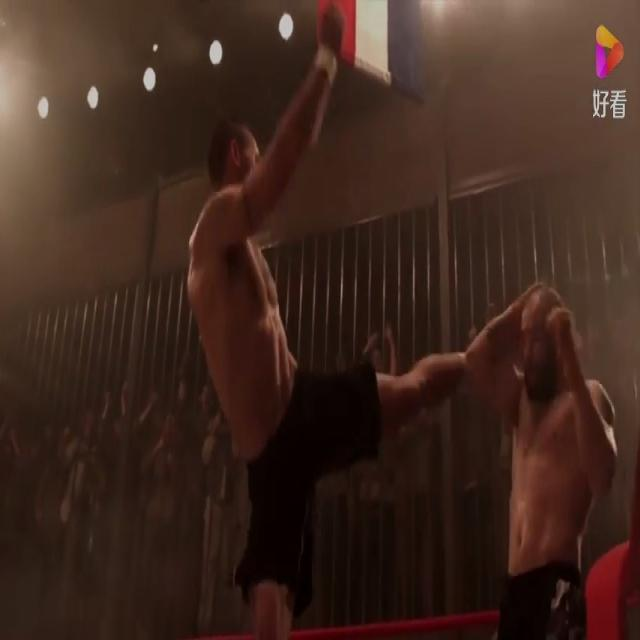fight: (154, 0, 638, 639)
